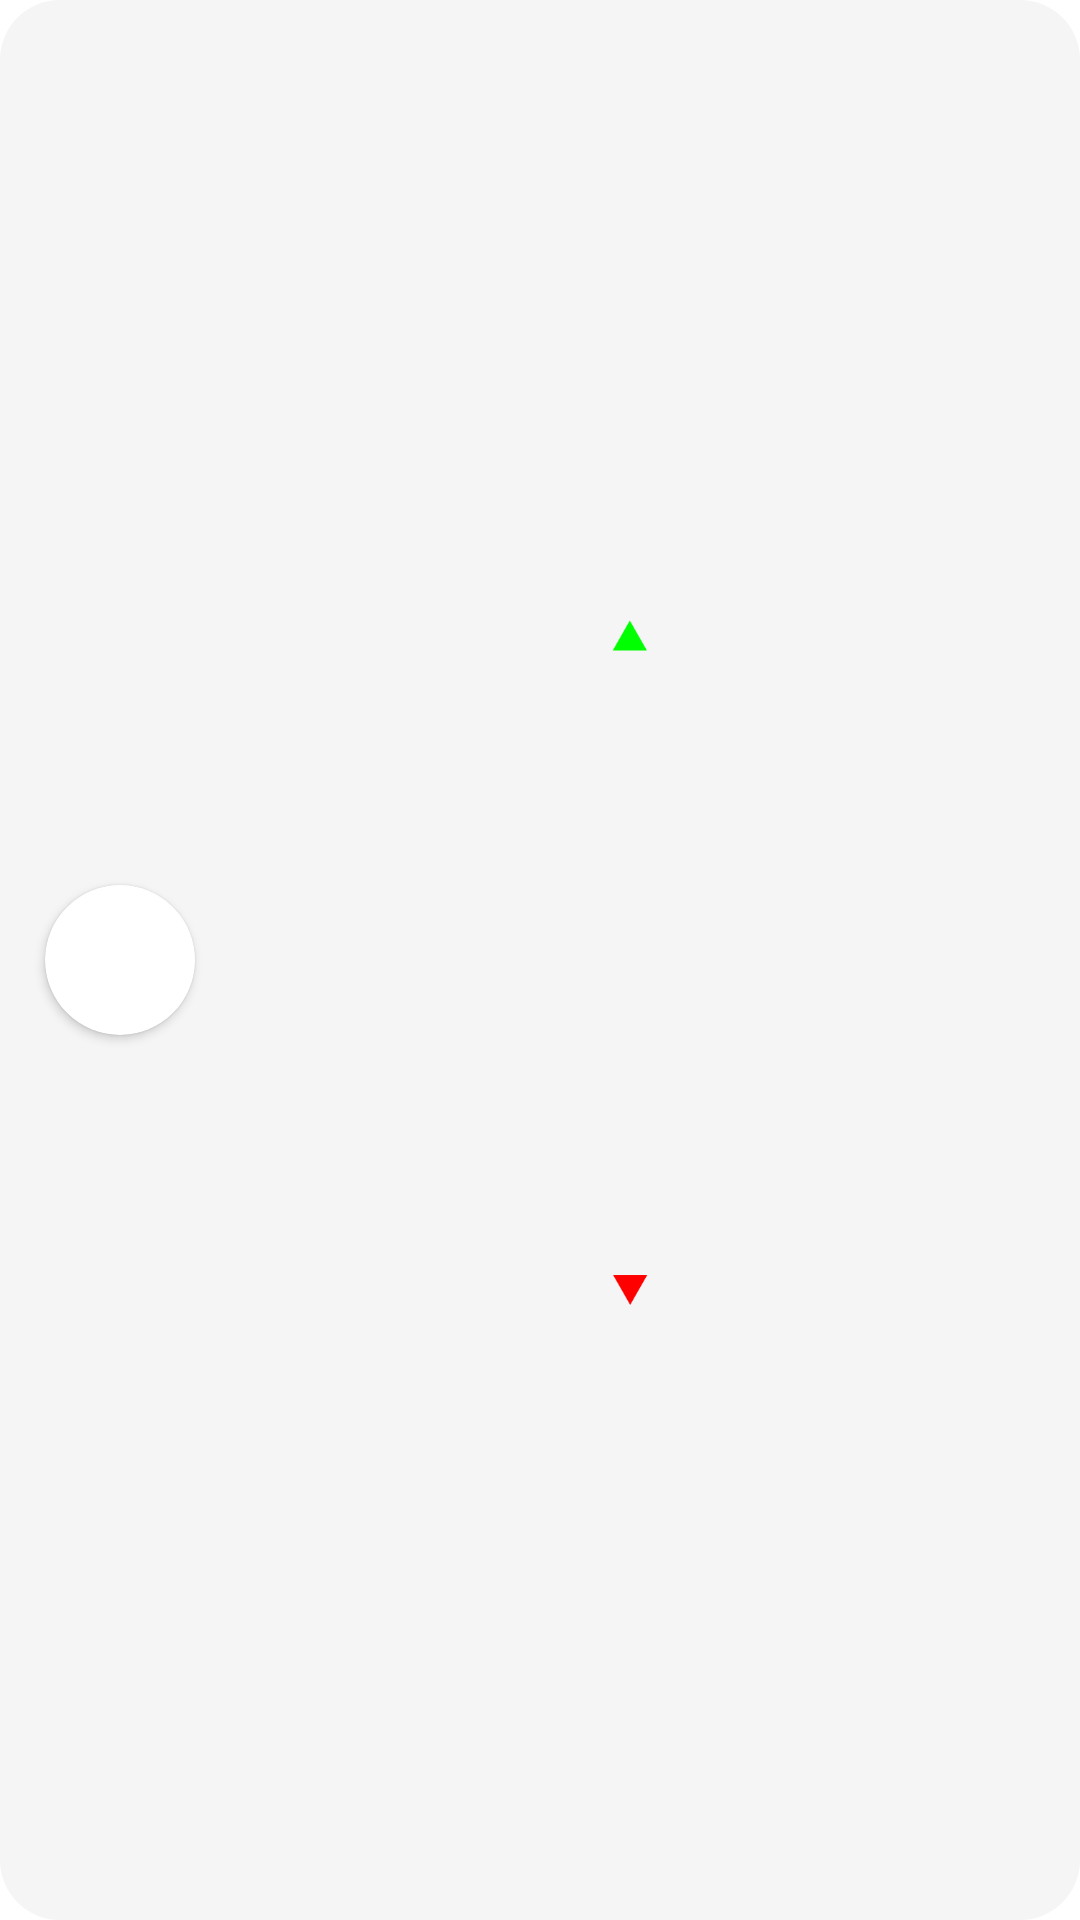

Named icons in this screenshot (1080 × 1920) and their centers, (x,y):
high: (630,635)
low: (630,1290)
